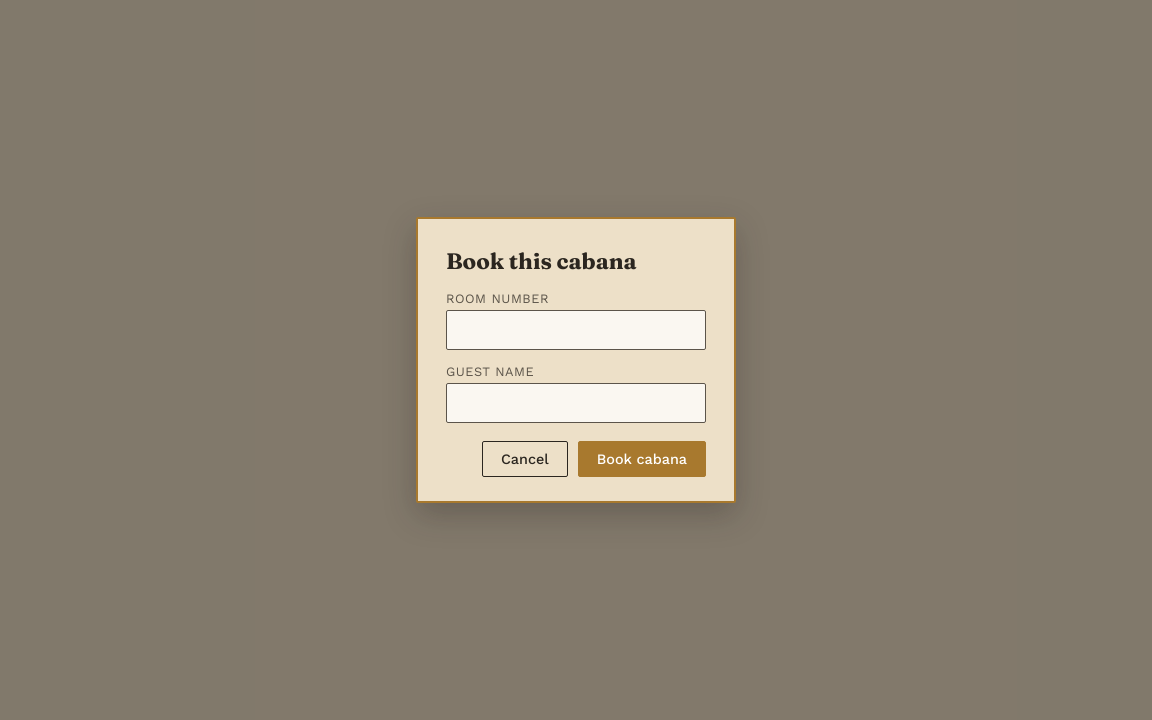
Scenario: BookingModal › shows an error message instead of a confirmation when bookCabana rejects
Type "101" into the field labelled "Room number".
click(576, 330); type("101")  # box [446, 310, 706, 350]
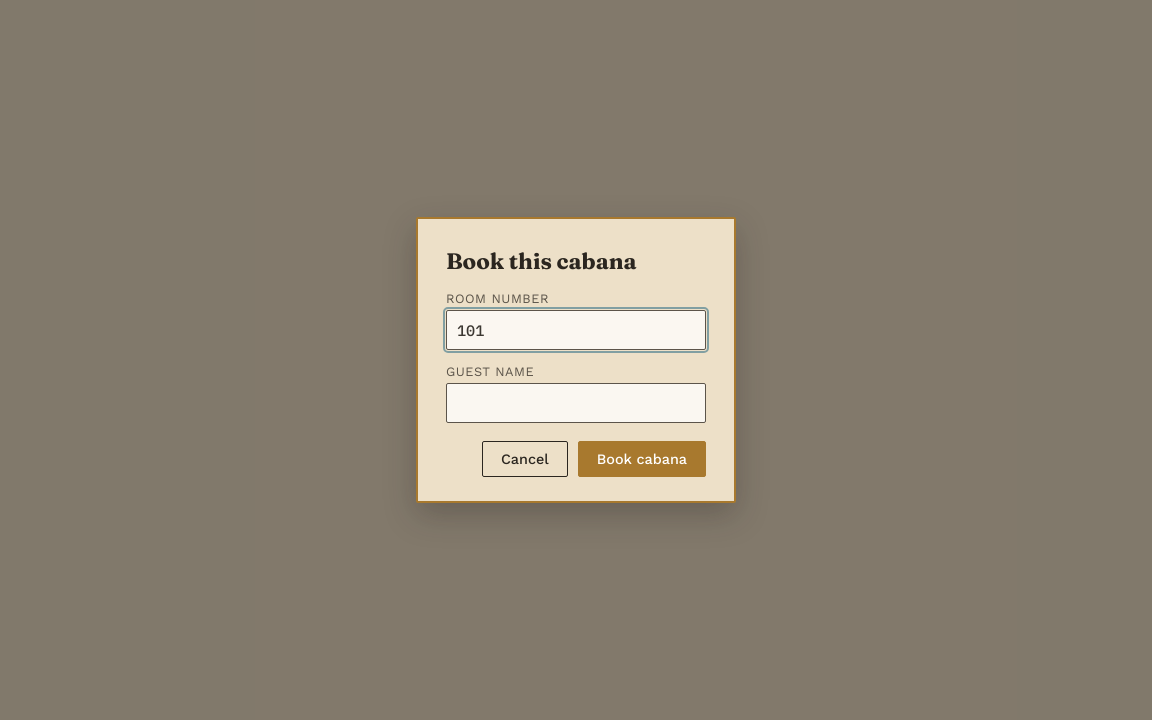
Type "Violet Cruz" into the field labelled "Guest name".
click(576, 403); type("Violet Cruz")  # box [446, 383, 706, 423]
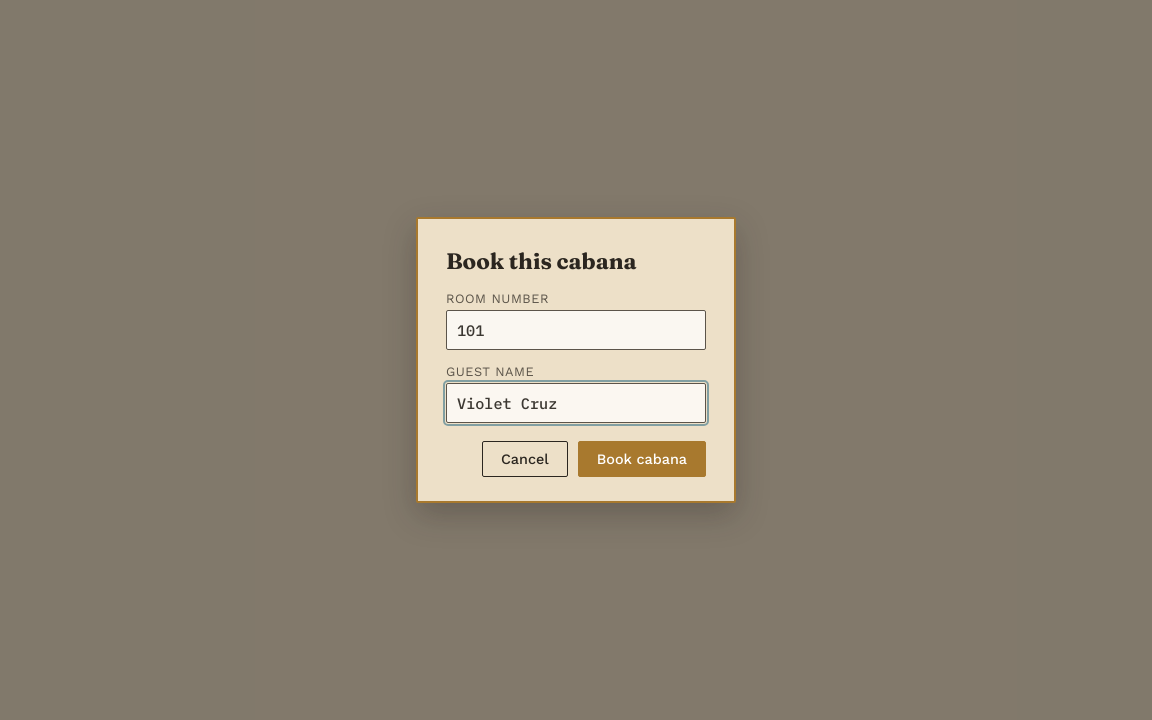
Click the button "Book cabana".
click(642, 459)  # box [578, 441, 706, 477]
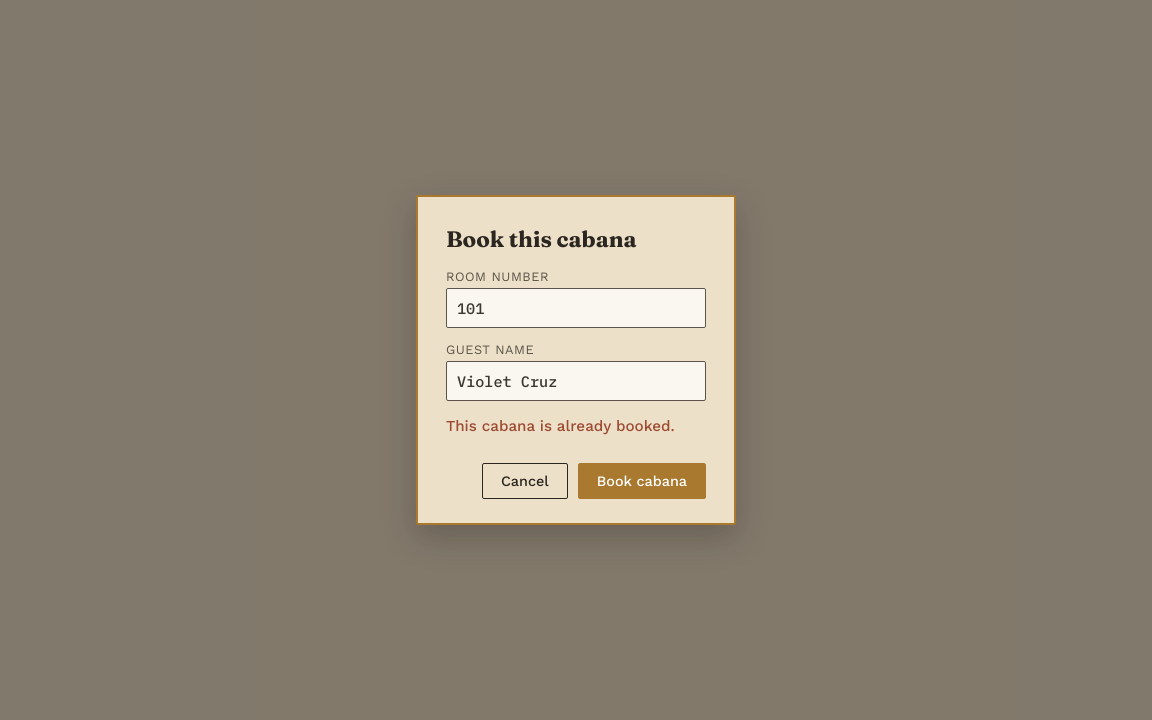
Expected: the message reads "This cabana is already booked.", [446, 417, 675, 435]
